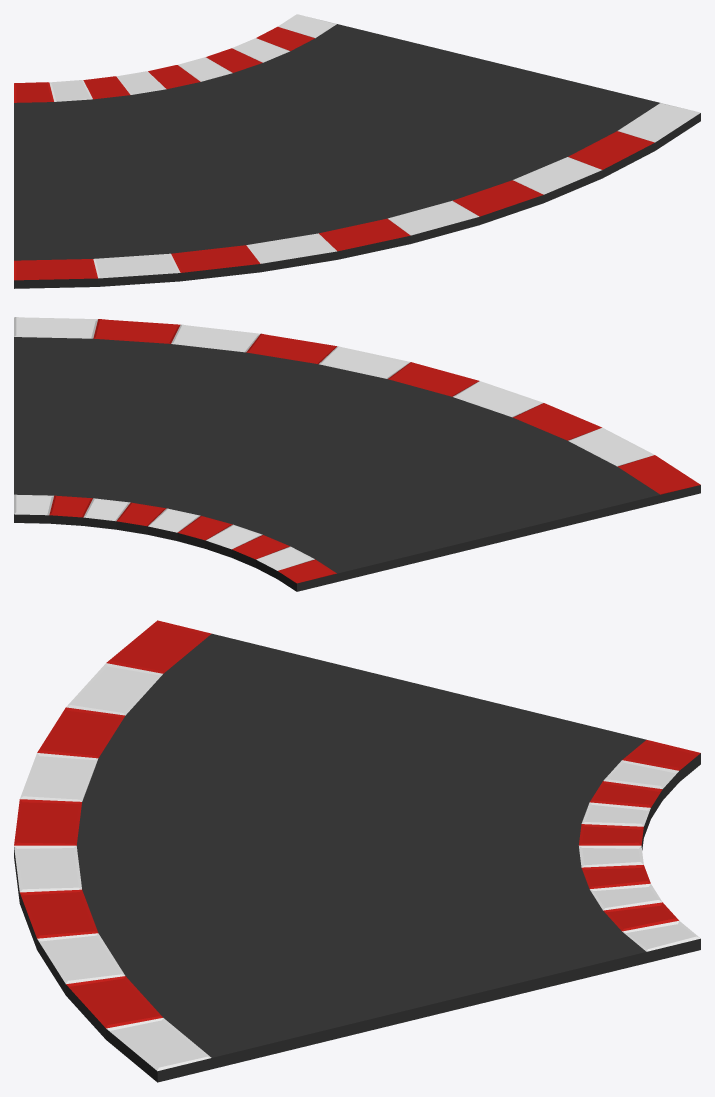
Rendered from track_curve_left.glb.
3 renders of one model, top to bottom at view 1: azimuth 30°, elevation 25°; view 2: azimuth 150°, elevation 25°; view 3: azimuth 270°, elevation 25°, orthographic. The views are drawn at different scales.
Visible parts, largest first — view 1: CurveLeft; view 2: CurveLeft; view 3: CurveLeft.
Boxes of the visible parts, bbox=[...] form: CurveLeft: bbox=[14, 14, 700, 288]; CurveLeft: bbox=[14, 317, 700, 591]; CurveLeft: bbox=[14, 620, 700, 1082].
Size of the model in its own units: 17 by 0.23 by 10.95.
